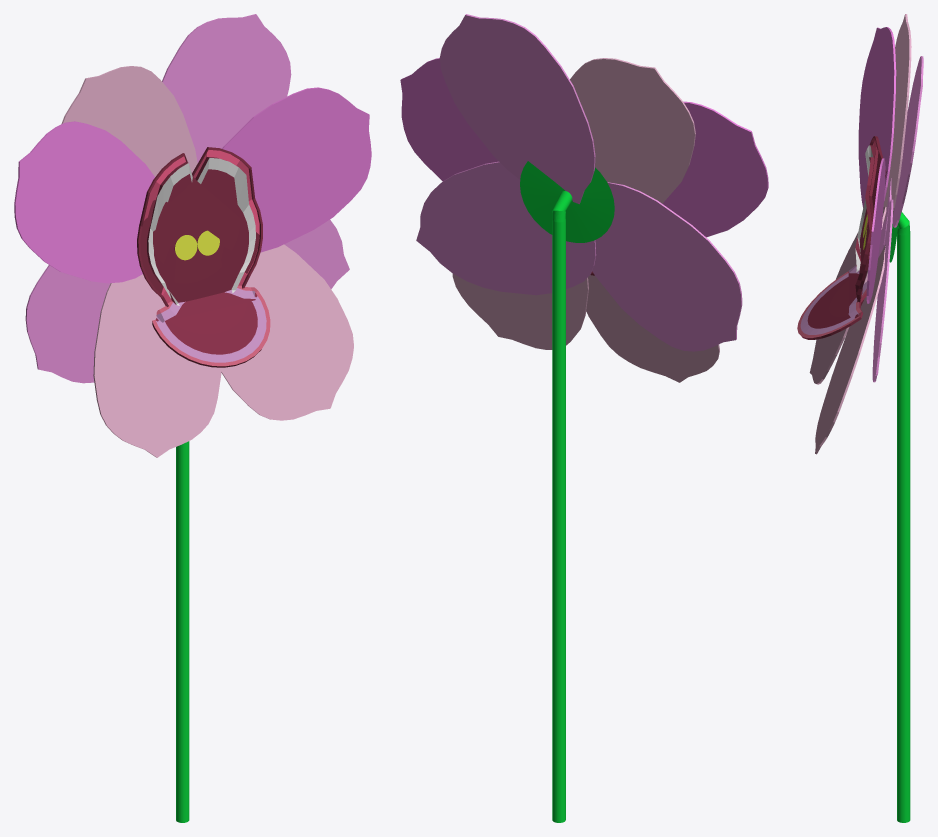
Rendered from coins (1).fbx.
3 views of the same model, side by side, from view 1: azimuth 30°, elevation 25°; view 2: azimuth 150°, elevation 25°; view 3: azimuth 270°, elevation 25° (orthographic). The views are drawn at different scales.
Visible parts, largest first — view 1: Circle.009; view 2: Circle.009; view 3: Circle.009.
Boxes of the visible parts, bbox=[...] form: Circle.009: bbox=[14, 14, 371, 822]; Circle.009: bbox=[400, 14, 768, 822]; Circle.009: bbox=[797, 14, 923, 822].
Size of the model in its own units: 6881 by 14386 by 2115.
